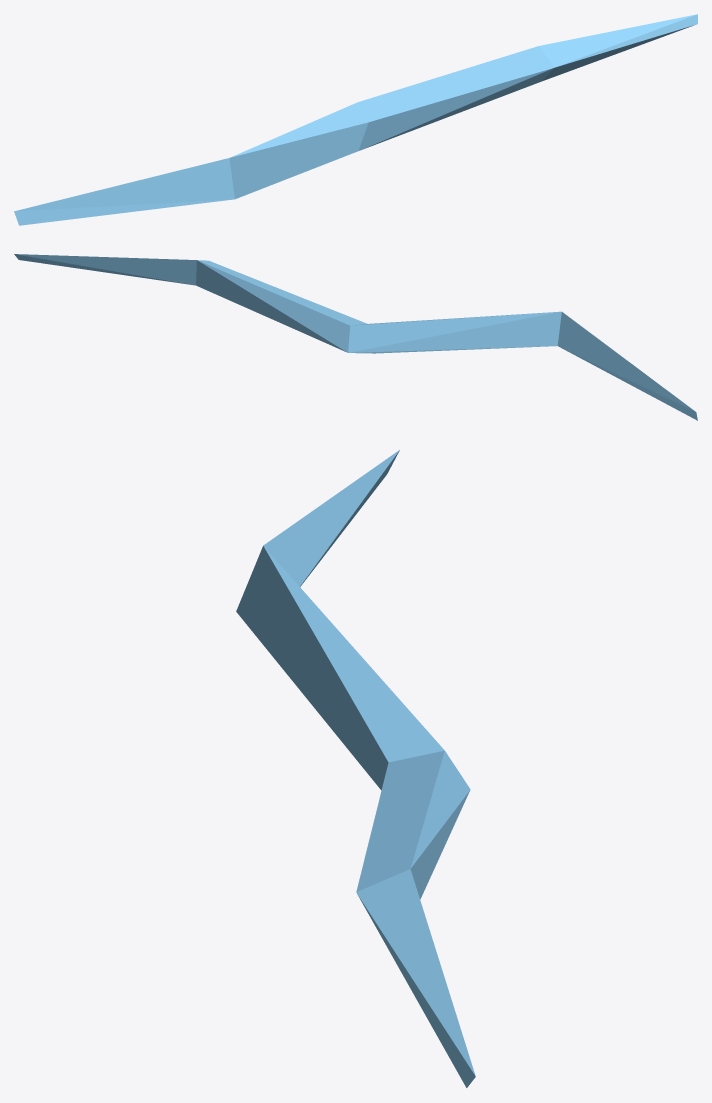
Rendered from LightningBolt.glb.
3 views of the same model, one above another, from view 1: azimuth 30°, elevation 25°; view 2: azimuth 150°, elevation 25°; view 3: azimuth 270°, elevation 25° (orthographic). The views are drawn at different scales.
Visible parts, largest first — view 1: Cylinder; view 2: Cylinder; view 3: Cylinder.
Boxes of the visible parts, box(x1,y1,x2,y2) form: Cylinder: box(14, 14, 697, 225); Cylinder: box(14, 254, 697, 420); Cylinder: box(236, 450, 475, 1087).
Bounding box in the file's own units: 5.89 × 0.4707 × 0.9216.
